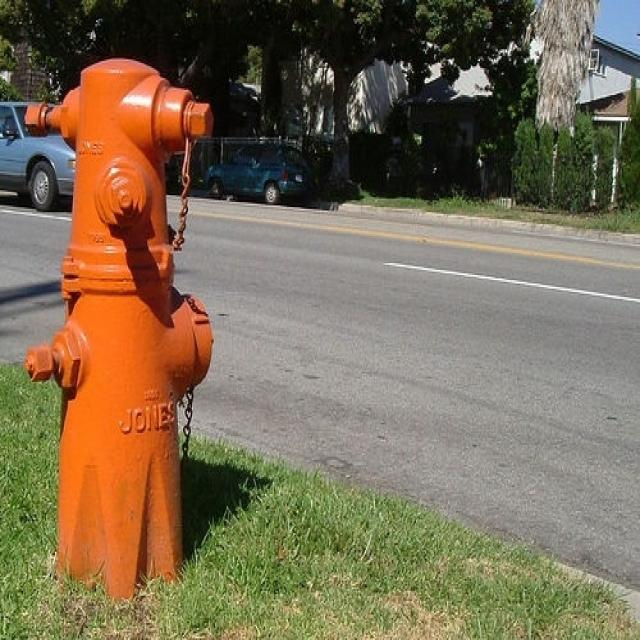fire_hydrant: (24, 74, 223, 580)
